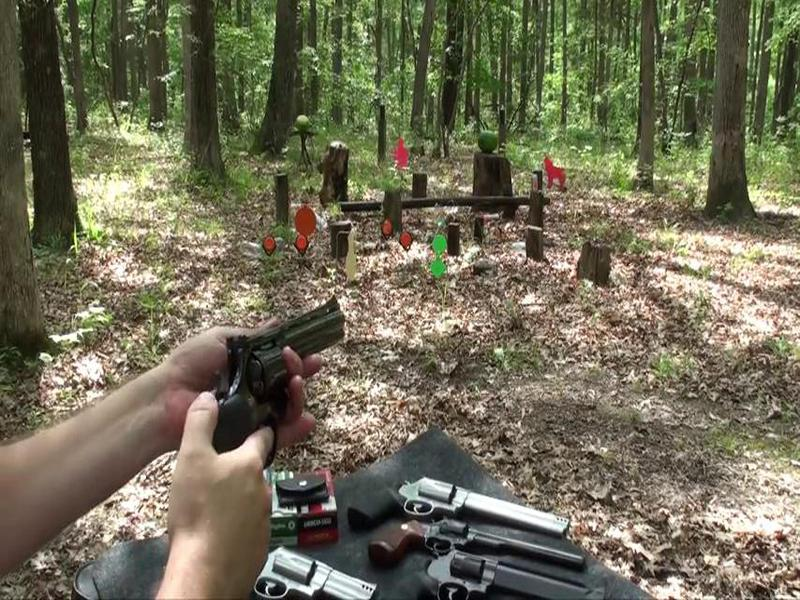Revolver: (176, 274, 361, 504)
